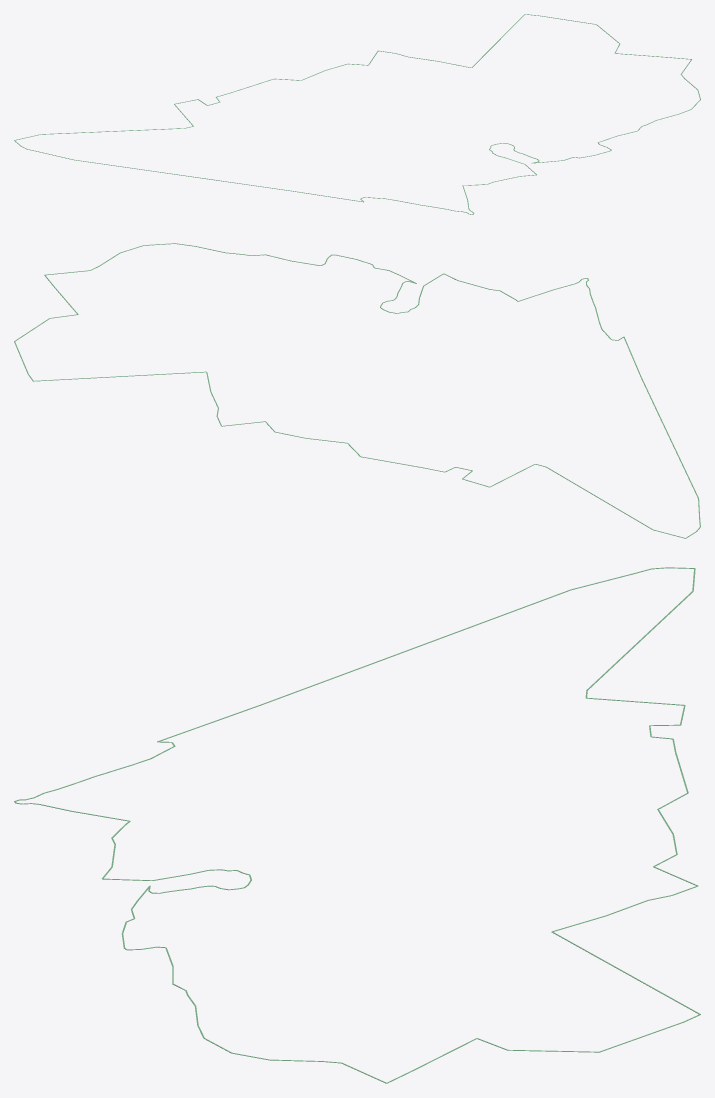
The model's file is city-forest-ghaziabad.glb.
3 views of the same model, one above another, from view 1: azimuth 30°, elevation 25°; view 2: azimuth 150°, elevation 25°; view 3: azimuth 270°, elevation 25° (orthographic). The views are drawn at different scales.
Visible parts, largest first — view 1: NCR_city-forest-ghaziabad; view 2: NCR_city-forest-ghaziabad; view 3: NCR_city-forest-ghaziabad.
Part boxes in pixels (<box>): NCR_city-forest-ghaziabad: <box>14,14,700,214</box>; NCR_city-forest-ghaziabad: <box>14,243,700,538</box>; NCR_city-forest-ghaziabad: <box>14,567,700,1083</box>.
Bounding box in the file's own units: 1614 × 0.4 × 908.
